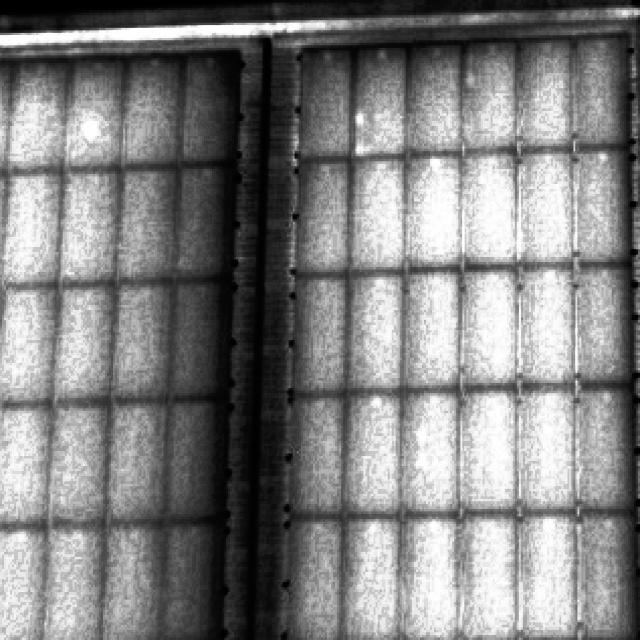Hotspots: (74, 116, 106, 150), (425, 154, 447, 177), (482, 39, 504, 60), (316, 50, 336, 70), (372, 46, 392, 64), (355, 110, 370, 129), (425, 45, 444, 60)
PV-modules: (124, 158, 244, 282), (125, 46, 245, 164), (520, 30, 628, 150), (512, 376, 581, 516), (569, 383, 640, 517), (454, 506, 523, 640), (390, 148, 465, 269), (457, 381, 521, 522), (456, 260, 523, 394), (162, 507, 230, 639), (47, 396, 112, 534), (109, 274, 177, 405), (341, 150, 414, 271), (401, 383, 463, 524), (575, 506, 640, 640), (168, 278, 236, 405), (0, 47, 72, 166), (109, 394, 174, 524), (163, 395, 232, 517), (339, 511, 404, 640), (514, 264, 580, 390), (344, 387, 406, 519), (400, 509, 462, 640), (515, 509, 577, 640), (2, 390, 58, 534), (283, 511, 345, 640), (57, 280, 120, 406), (0, 282, 63, 408), (577, 262, 640, 388), (42, 516, 106, 640), (103, 516, 167, 640), (0, 167, 67, 285), (287, 391, 347, 522), (400, 268, 464, 388), (573, 145, 636, 265), (61, 165, 124, 284), (288, 274, 350, 394), (458, 146, 520, 264), (180, 159, 242, 277), (346, 269, 406, 390), (121, 162, 183, 278), (292, 152, 351, 273), (516, 32, 578, 146), (520, 147, 579, 266), (74, 50, 135, 165), (575, 31, 635, 146), (406, 41, 466, 152), (298, 48, 357, 160), (188, 46, 244, 160), (464, 36, 520, 148), (0, 519, 50, 640), (358, 44, 412, 155)
